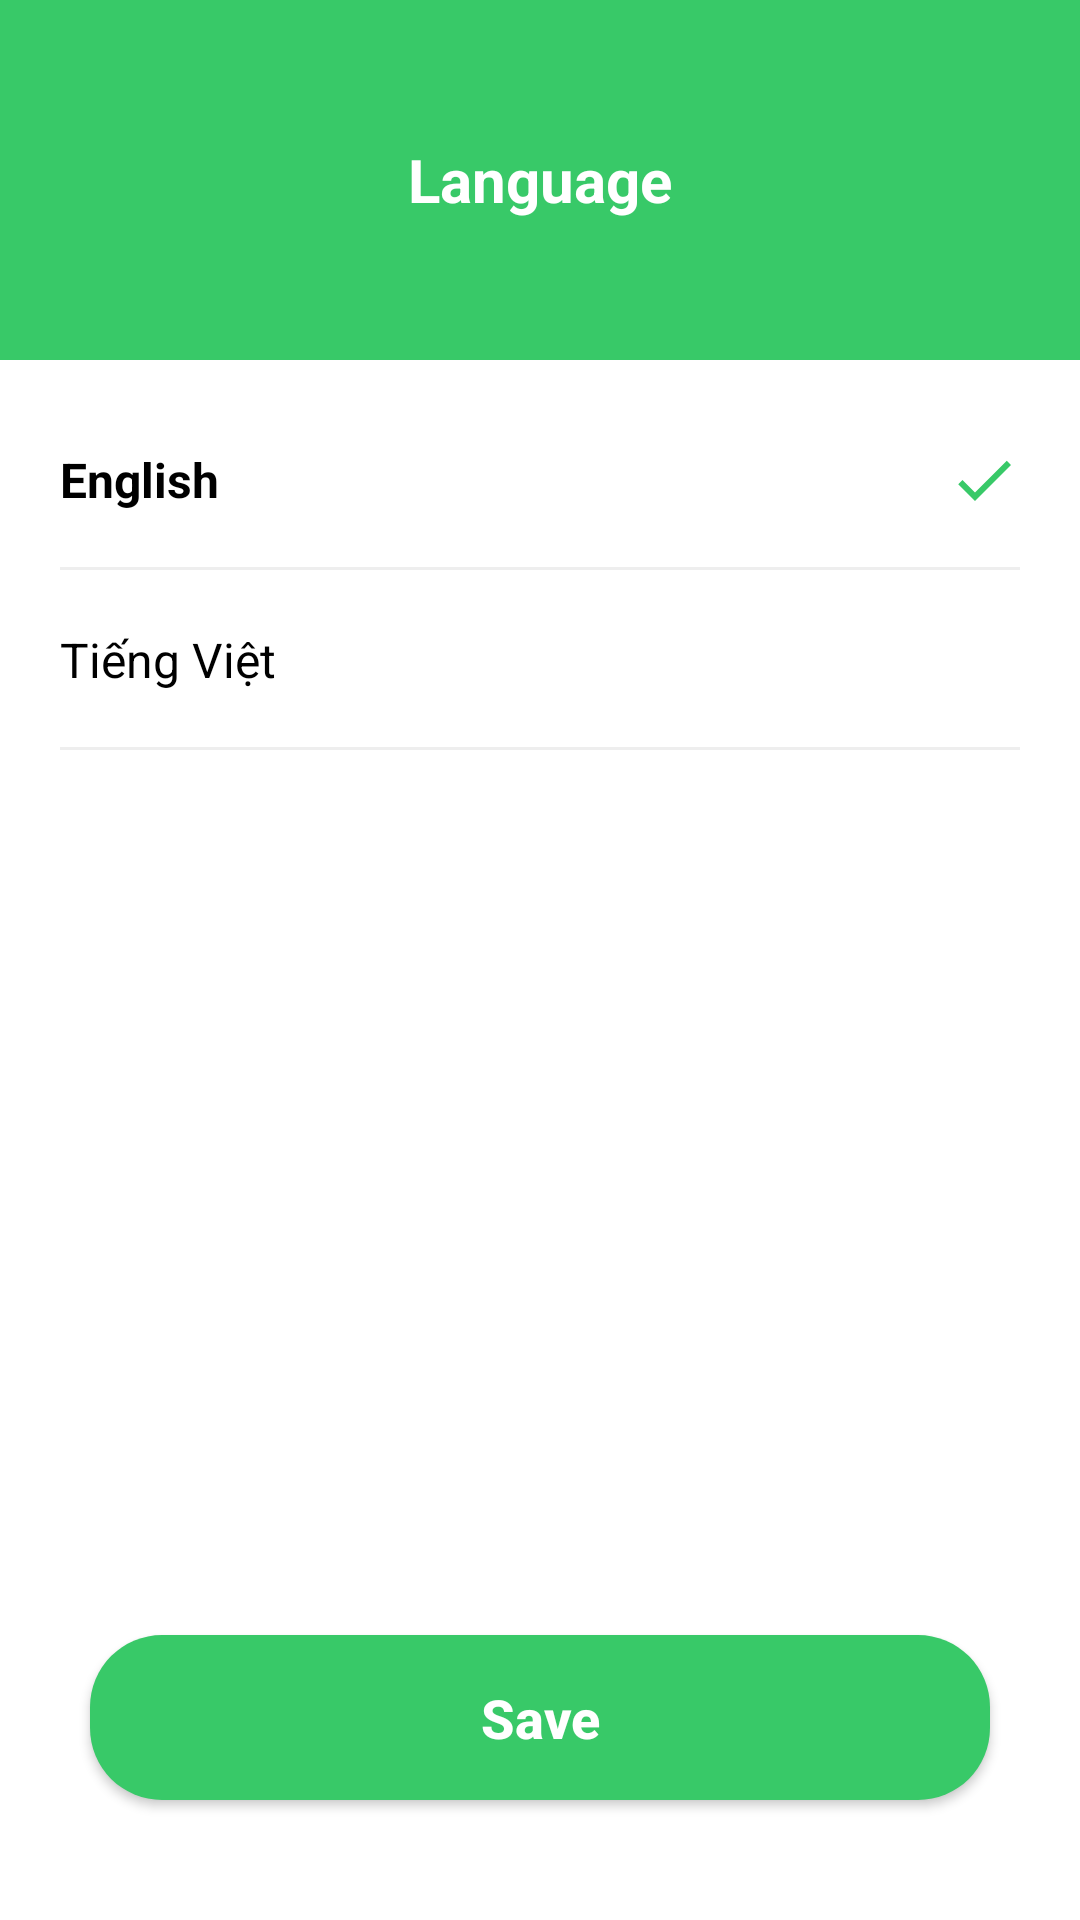

Icons on this 1080×1920 Android screen, each with its box as box(x1, y1, x2, y2):
check: box(958, 461, 1011, 501)
